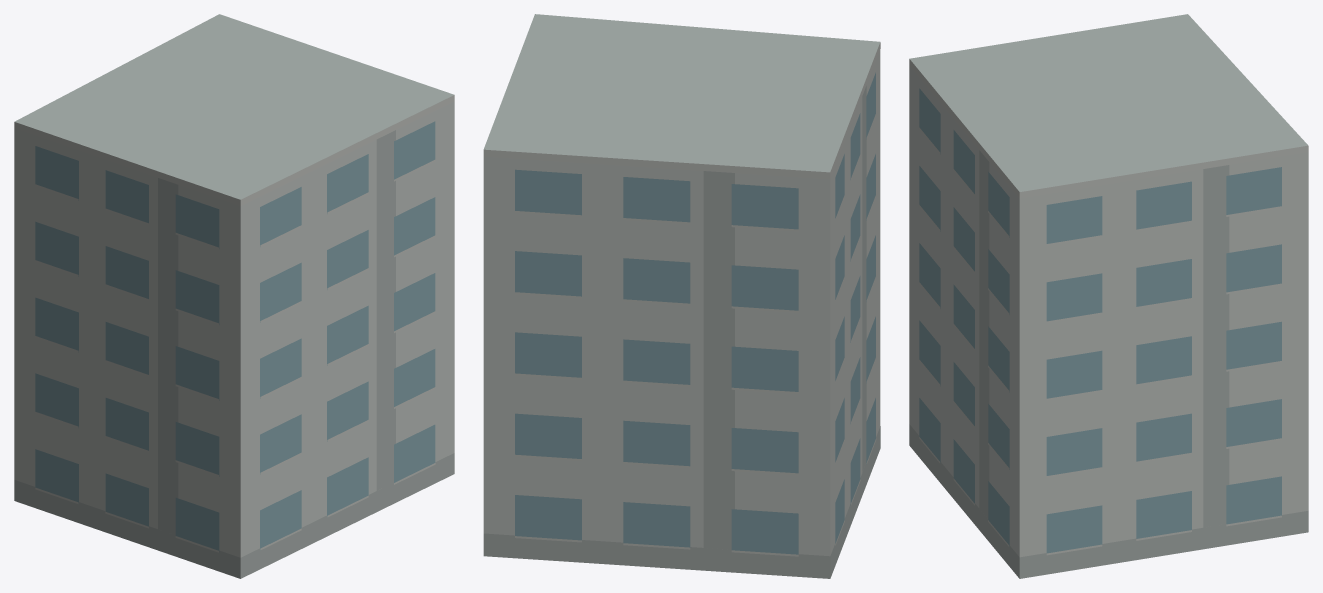
File: survey-upis-32710942.glb
3 views of the same model, side by side, from view 1: azimuth 30°, elevation 25°; view 2: azimuth 150°, elevation 25°; view 3: azimuth 270°, elevation 25° (orthographic). The views are drawn at different scales.
Parts seen in each view (by area): view 1: survey-upis-32710942.tmp; view 2: survey-upis-32710942.tmp; view 3: survey-upis-32710942.tmp.
Part boxes in pixels (x1,y1,x2,y2): survey-upis-32710942.tmp: [14, 14, 454, 578]; survey-upis-32710942.tmp: [483, 14, 880, 578]; survey-upis-32710942.tmp: [909, 14, 1308, 578].
Size of the model in its own units: 14.19 by 14.35 by 13.43.
